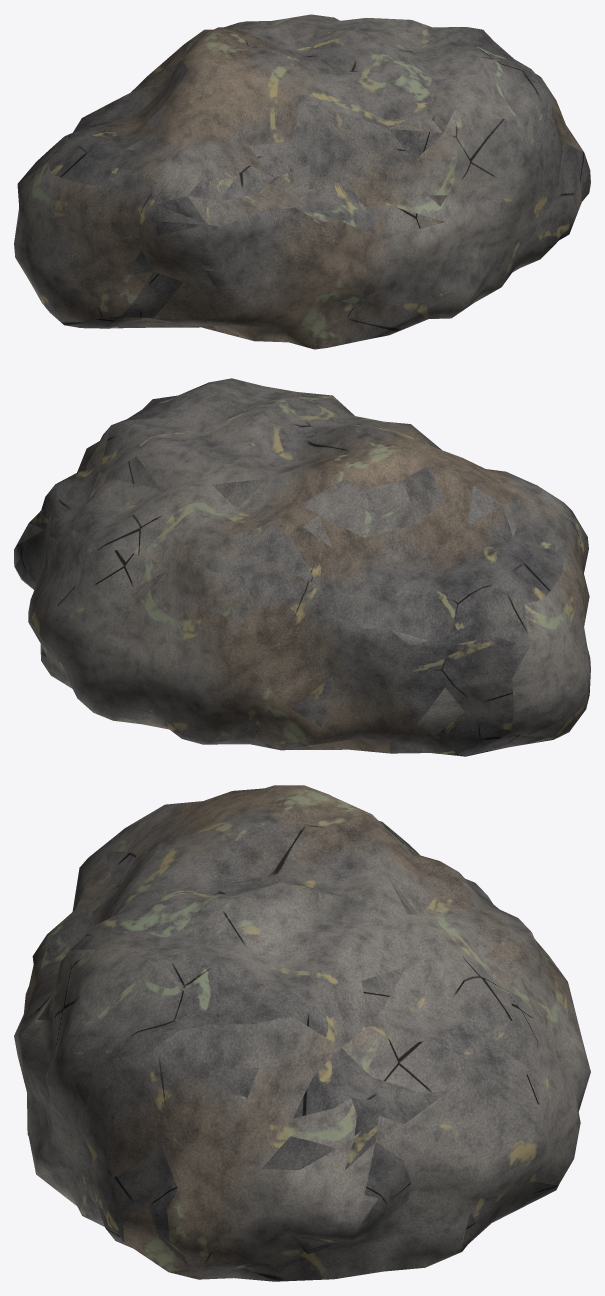
The model's file is ENV_Forest_Rock_A.fbx.
3 renders of one model, top to bottom at view 1: azimuth 30°, elevation 25°; view 2: azimuth 150°, elevation 25°; view 3: azimuth 270°, elevation 25°, orthographic. The views are drawn at different scales.
Parts seen in each view (by area): view 1: ENV_Forest_Rock_A; view 2: ENV_Forest_Rock_A; view 3: ENV_Forest_Rock_A.
Part boxes in pixels (x1,y1,x2,y2): ENV_Forest_Rock_A: [14, 14, 590, 349]; ENV_Forest_Rock_A: [14, 378, 590, 756]; ENV_Forest_Rock_A: [14, 785, 590, 1281].
Bounding box in the file's own units: 1.34 × 0.576 × 0.9846.
